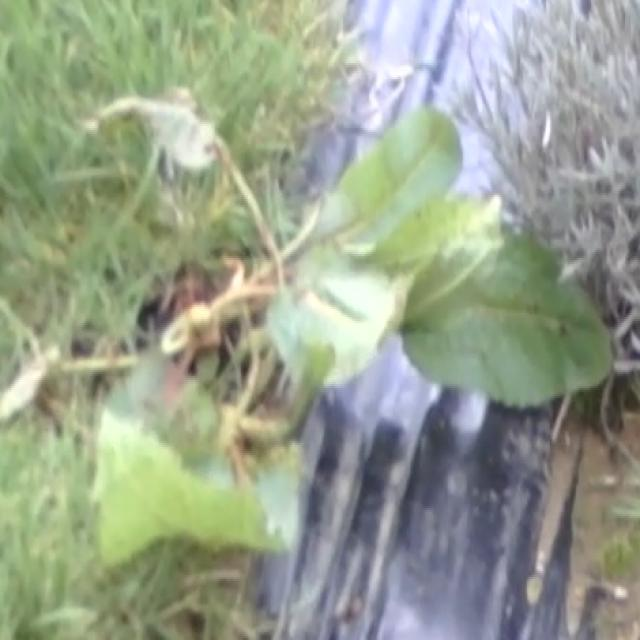organic waste: (34, 41, 608, 581)
